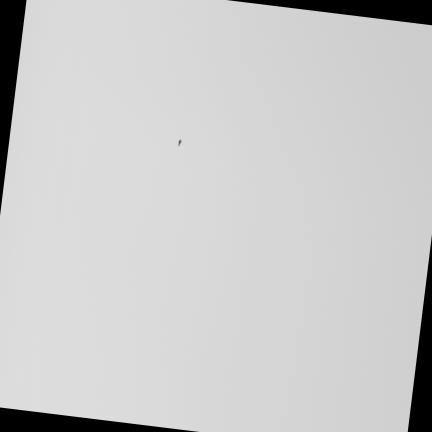Shahed: (177, 139, 180, 145)
